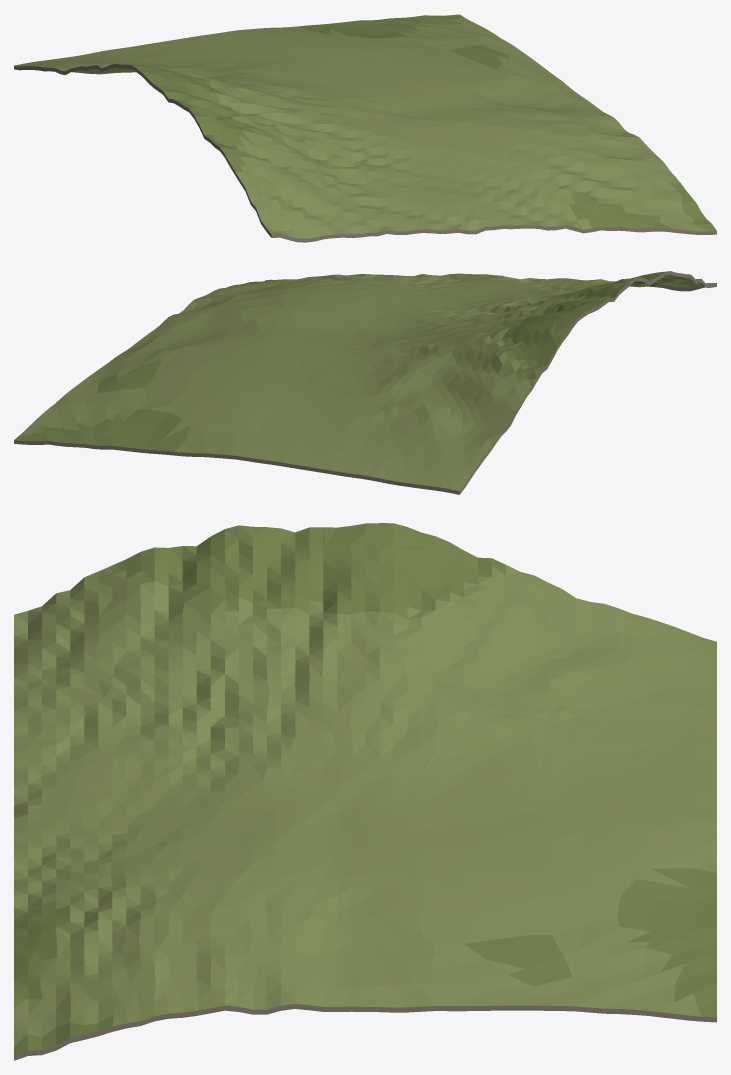
The model's file is parca_+9_-5-uzak.glb.
3 views of the same model, one above another, from view 1: azimuth 30°, elevation 25°; view 2: azimuth 150°, elevation 25°; view 3: azimuth 270°, elevation 25° (orthographic). The views are drawn at different scales.
Parts seen in each view (by area): view 1: parca_+9_-5_arazi_uzak; view 2: parca_+9_-5_arazi_uzak; view 3: parca_+9_-5_arazi_uzak.
Part boxes in pixels (left/top/right/bottom): parca_+9_-5_arazi_uzak: left=14, top=14, right=716, bottom=242; parca_+9_-5_arazi_uzak: left=14, top=271, right=716, bottom=494; parca_+9_-5_arazi_uzak: left=14, top=523, right=716, bottom=1060.
Size of the model in its own units: 1000 by 378 by 1000.
